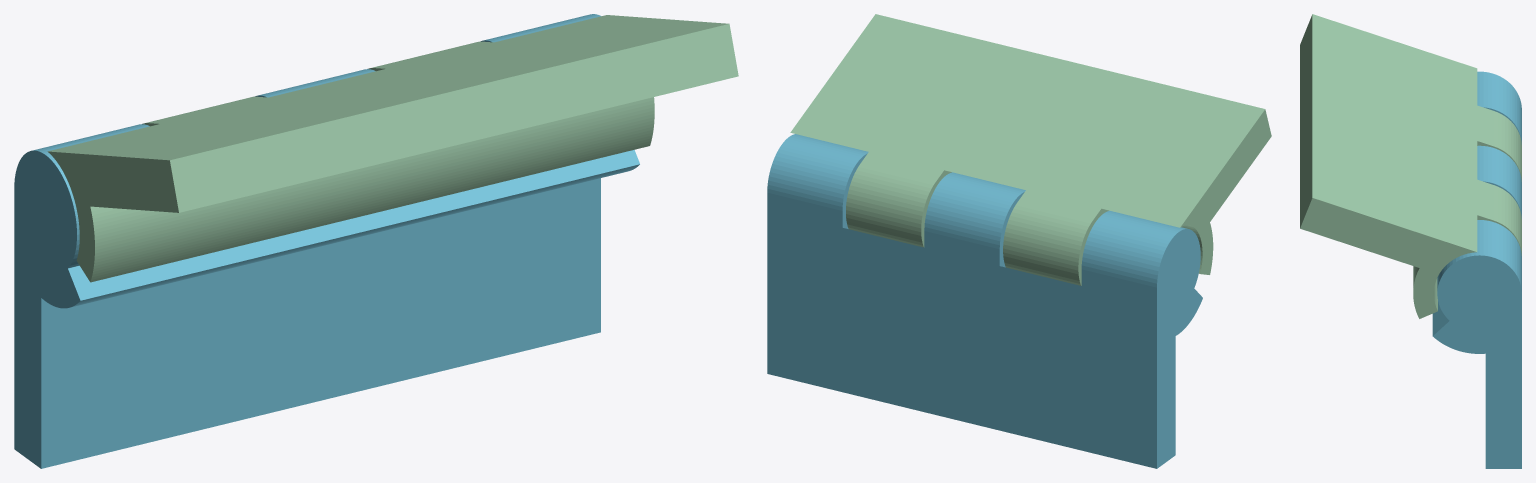
The model's file is knuckle_hinge_demo.glb.
3 views of the same model, side by side, from view 1: azimuth 30°, elevation 25°; view 2: azimuth 150°, elevation 25°; view 3: azimuth 270°, elevation 25° (orthographic). The views are drawn at different scales.
Parts seen in each view (by area): view 1: hinge_leaf_fixed, hinge_leaf_swinging; view 2: hinge_leaf_fixed, hinge_leaf_swinging; view 3: hinge_leaf_swinging, hinge_leaf_fixed.
Boxes of the visible parts, <box> form: hinge_leaf_fixed: <box>14,14,639,468</box>; hinge_leaf_swinging: <box>47,15,738,282</box>; hinge_leaf_fixed: <box>767,134,1202,468</box>; hinge_leaf_swinging: <box>790,14,1271,285</box>; hinge_leaf_swinging: <box>1300,14,1521,318</box>; hinge_leaf_fixed: <box>1432,71,1521,468</box>.
Bounding box in the file's own units: 36 × 24.76 × 18.36.
